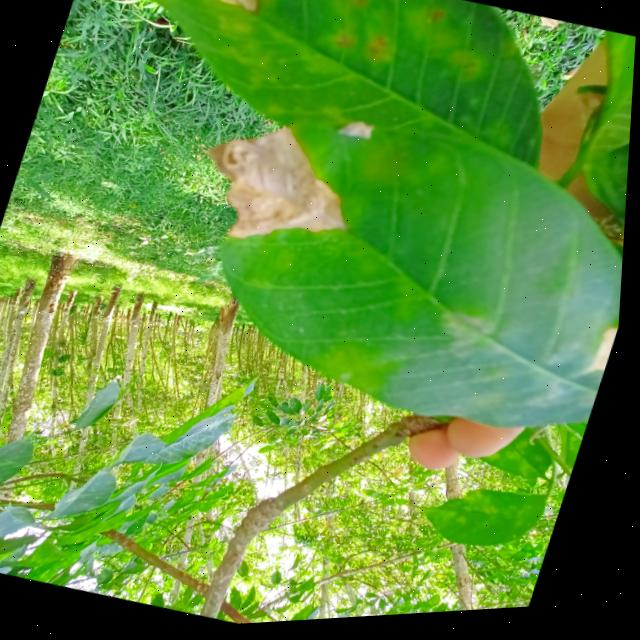Leaf-Blight: (183, 108, 372, 271), (589, 312, 624, 385), (147, 0, 272, 20)
